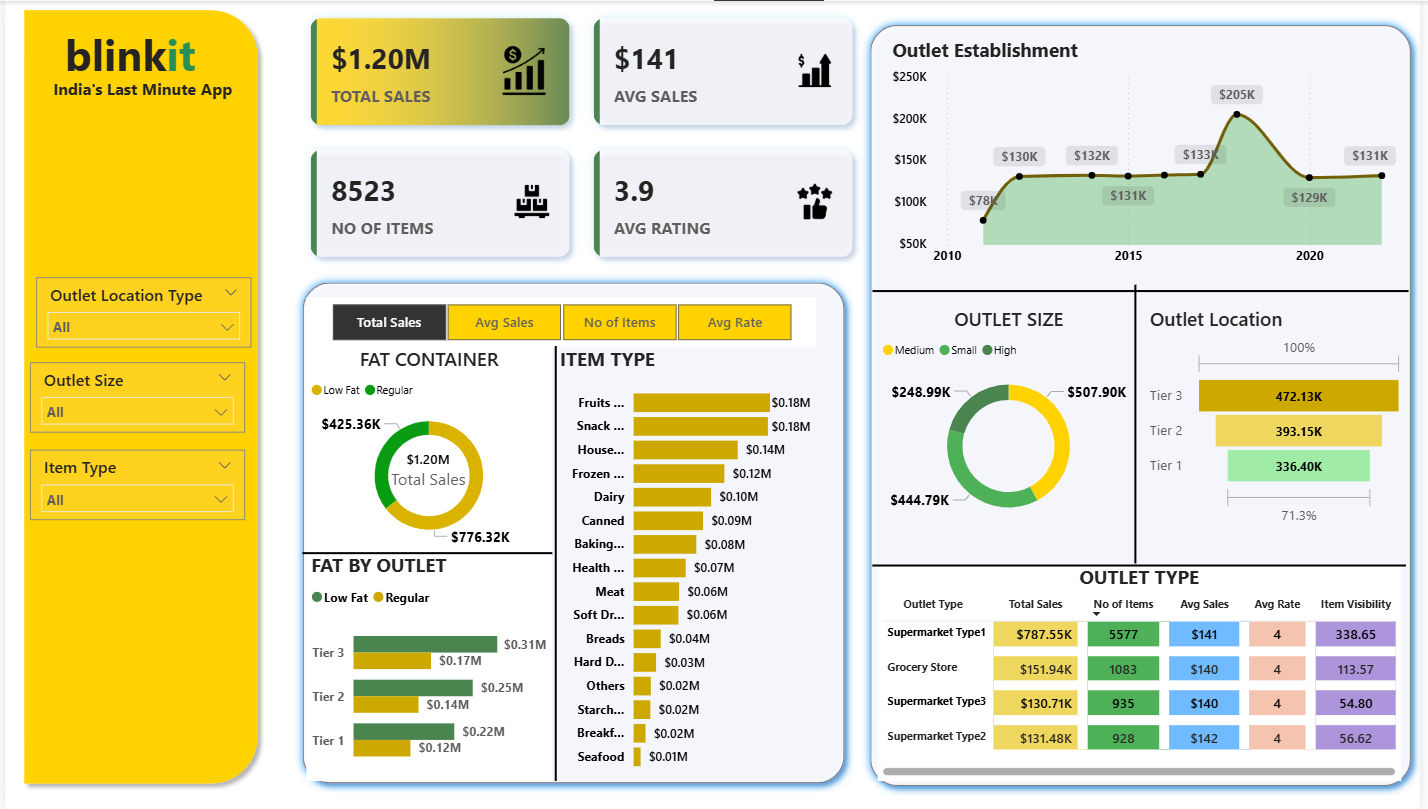

Layout of this report page (visuals, bound fields, positions):
{"tool":"powerbi","page":{"name":"Page 1","canvas":[1400,800],"ordinal":0},"visuals":[{"type":"shape","box":[10.5,0,249.1,783.5],"z":0},{"type":"textbox","box":[25,18.1,198.6,70.8],"z":1000},{"type":"textbox","box":[30,70.5,213.1,34.5],"z":2000},{"type":"cardVisual","fields":{"Data":["BlinkIT Grocery Data.Total Sales","BlinkIT Grocery Data.Avg Sales","BlinkIT Grocery Data.No of Items","BlinkIT Grocery Data.Avg Rate"]},"box":[285.2,0,570,270],"z":3000},{"type":"shape","box":[285.2,270.2,553.8,513.3],"z":4000},{"type":"donutChart","title":"FAT CONTAINER","fields":{"Y":["BlinkIT Grocery Data.Total Sales"],"Category":["BlinkIT Grocery Data.Item Fat Content"]},"box":[298.6,341.7,243.1,204.2],"z":5000},{"type":"slicer","fields":{"Values":["Metrics.Metrics"]},"box":[298.7,292.7,504.3,49.5],"z":6000},{"type":"cardVisual","fields":{"Data":["BlinkIT Grocery Data.Total Sales"]},"box":[362.5,426.4,113.9,69.4],"z":7000},{"type":"clusteredBarChart","title":"FAT BY OUTLET","fields":{"Y":["BlinkIT Grocery Data.Total Sales"],"Category":["BlinkIT Grocery Data.Outlet Location Type"],"Series":["BlinkIT Grocery Data.Item Fat Content"]},"box":[298.6,545.8,243.1,226.4],"z":8000},{"type":"shape","box":[294.4,526.4,247.2,38.9],"z":9000},{"type":"shape","box":[526.4,341.7,36.1,430.6],"z":10000},{"type":"barChart","title":"ITEM TYPE","fields":{"Y":["BlinkIT Grocery Data.Total Sales"],"Category":["BlinkIT Grocery Data.Item Type"]},"box":[544.4,341.7,258.3,430.6],"z":11000},{"type":"shape","box":[847.2,15.3,552.8,770.8],"z":12000},{"type":"lineChart","title":"Outlet Establishment","fields":{"Category":["BlinkIT Grocery Data.Outlet Establishment Year"],"Y":["BlinkIT Grocery Data.Total Sales"]},"box":[873.6,36.1,508.3,234.7],"z":13000},{"type":"donutChart","title":"OUTLET SIZE","fields":{"Y":["BlinkIT Grocery Data.Total Sales"],"Category":["BlinkIT Grocery Data.Outlet Size"]},"box":[863.9,301.4,259.7,225],"z":14000},{"type":"shape","box":[1109.7,280.6,18.1,277.8],"z":15000},{"type":"funnel","title":" Outlet Location ","fields":{"Category":["BlinkIT Grocery Data.Outlet Location Type"],"Y":["Sum(BlinkIT Grocery Data.Sales)"]},"box":[1127.8,301.4,261.1,222.2],"z":16000},{"type":"pivotTable","title":"OUTLET TYPE","fields":{"Rows":["BlinkIT Grocery Data.Outlet Type"],"Values":["BlinkIT Grocery Data.Total Sales","BlinkIT Grocery Data.No of Items","BlinkIT Grocery Data.Avg Sales","BlinkIT Grocery Data.Avg Rate","Sum(BlinkIT Grocery Data.Item Visibility)"]},"box":[863.9,556.9,518.1,215.3],"z":17000},{"type":"shape","box":[858.3,551.4,527.8,13.9],"z":18000},{"type":"shape","box":[858.3,280.6,530.6,12.5],"z":19000},{"type":"slicer","fields":{"Values":["BlinkIT Grocery Data.Outlet Location Type"]},"box":[30.6,273.6,212.5,69.4],"z":20000},{"type":"slicer","fields":{"Values":["BlinkIT Grocery Data.Outlet Size"]},"box":[25,356.9,212.5,69.4],"z":21000},{"type":"slicer","fields":{"Values":["BlinkIT Grocery Data.Item Type"]},"box":[25,444.4,212.5,69.4],"z":22000}]}

Visuals, with their boxes in screenshot pixels (x1, y1, x2, y2), scaled from the page's 1400x800 canvas onto the 1428x809 screenshot:
shape: detection(11, 0, 265, 792)
textbox: detection(26, 18, 228, 90)
textbox: detection(31, 71, 248, 106)
cardVisual - BlinkIT Grocery Data.Total Sales x BlinkIT Grocery Data.Avg Sales: detection(291, 0, 872, 273)
shape: detection(291, 273, 856, 792)
"FAT CONTAINER" donutChart: detection(305, 346, 553, 552)
slicer - Metrics.Metrics: detection(305, 296, 819, 346)
cardVisual - BlinkIT Grocery Data.Total Sales: detection(370, 431, 486, 501)
"FAT BY OUTLET" clusteredBarChart: detection(305, 552, 553, 781)
shape: detection(300, 532, 552, 572)
shape: detection(537, 346, 574, 781)
"ITEM TYPE" barChart: detection(555, 346, 819, 781)
shape: detection(864, 15, 1427, 795)
"Outlet Establishment" lineChart: detection(891, 37, 1410, 274)
"OUTLET SIZE" donutChart: detection(881, 305, 1146, 532)
shape: detection(1132, 284, 1150, 565)
" Outlet Location " funnel: detection(1150, 305, 1417, 529)
"OUTLET TYPE" pivotTable: detection(881, 563, 1410, 781)
shape: detection(875, 558, 1414, 572)
shape: detection(875, 284, 1417, 296)
slicer - BlinkIT Grocery Data.Outlet Location Type: detection(31, 277, 248, 347)
slicer - BlinkIT Grocery Data.Outlet Size: detection(26, 361, 242, 431)
slicer - BlinkIT Grocery Data.Item Type: detection(26, 449, 242, 520)
